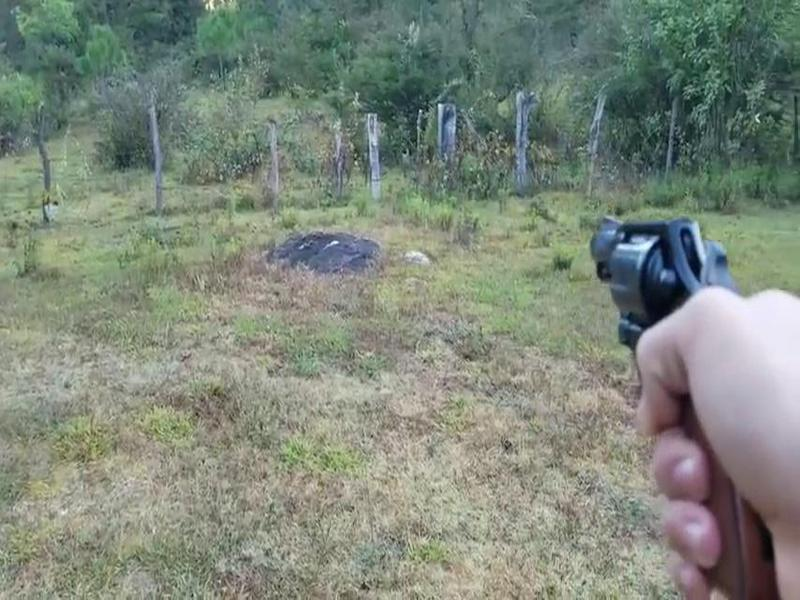Revolver: (573, 184, 773, 466)
